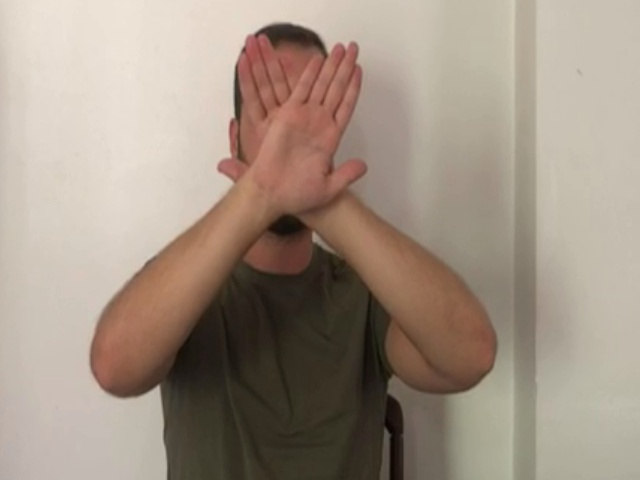Stemneto: (213, 32, 372, 216)
